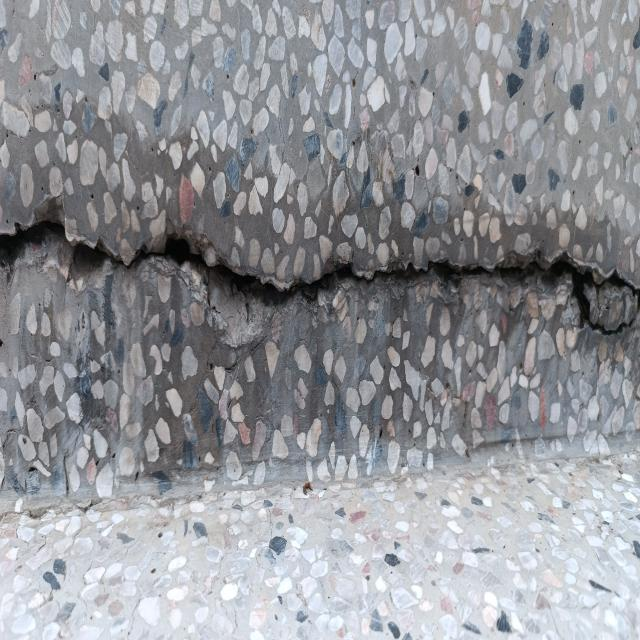branched cracks: (0, 201, 639, 335)
